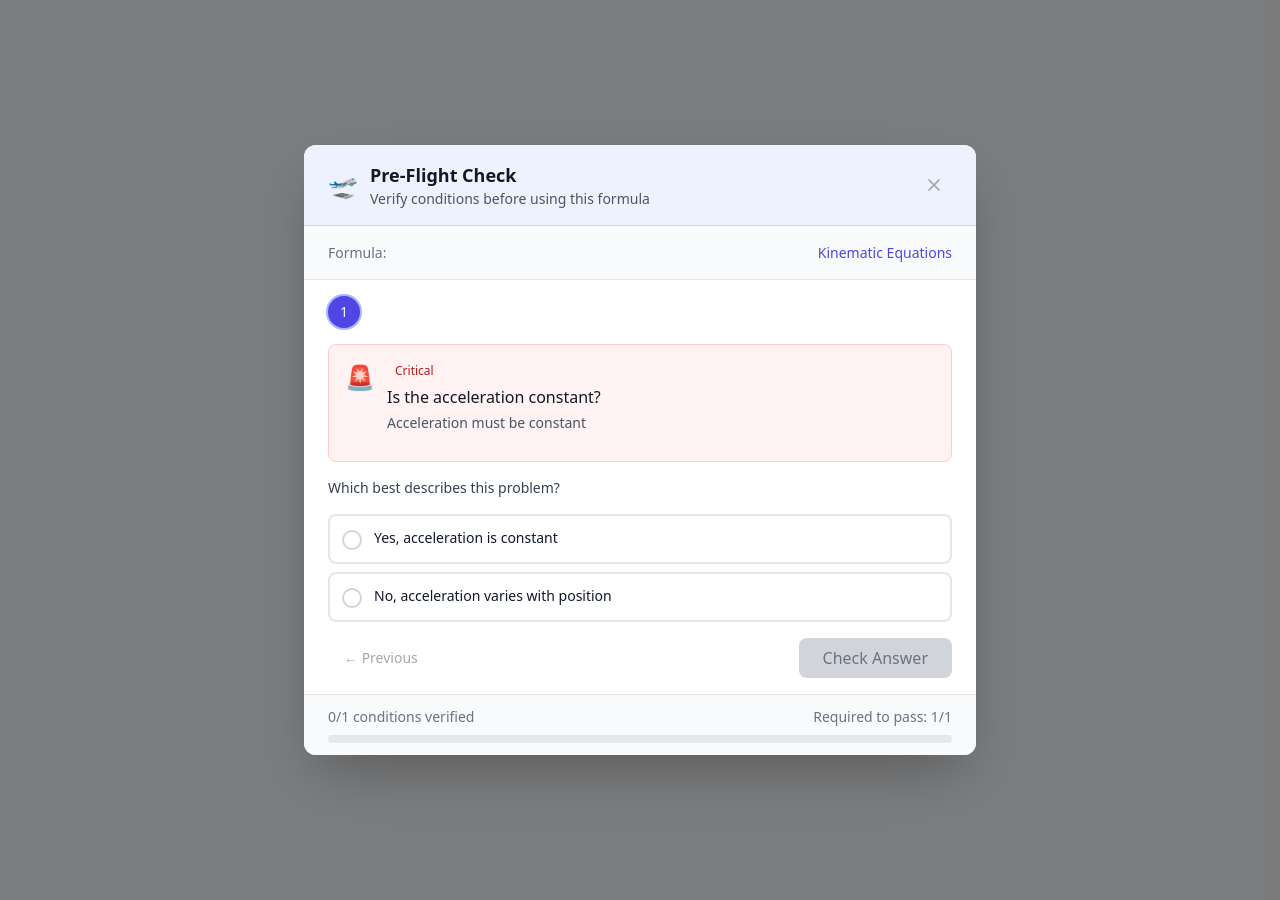
PreFlightCheckModal › allows selecting an option
The image size is (1280, 900).
Click the button "Yes, acceleration is constant": (466, 538) [328,514,952,564]
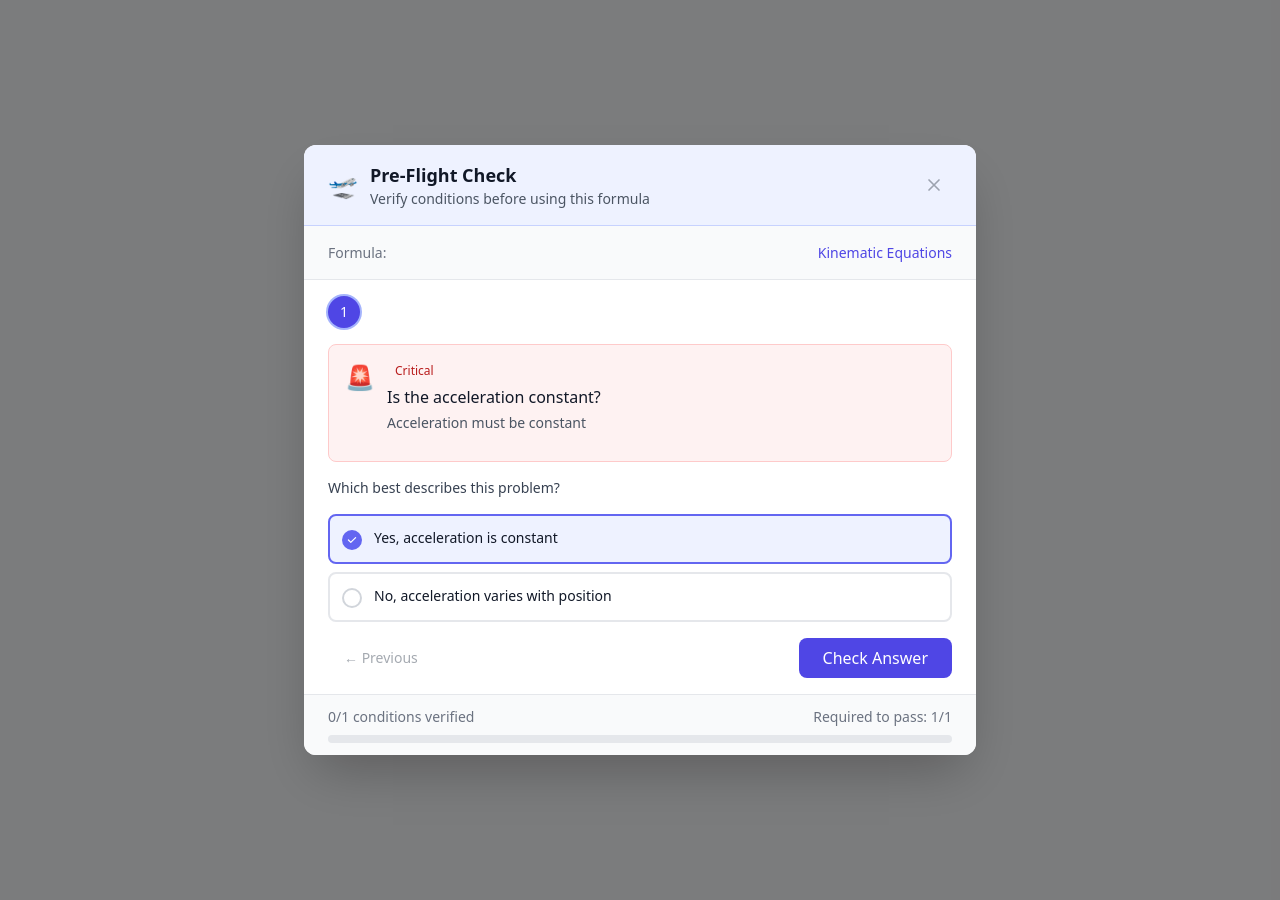
expect the button "Check Answer" is enabled: met, box [799,638,952,678]
